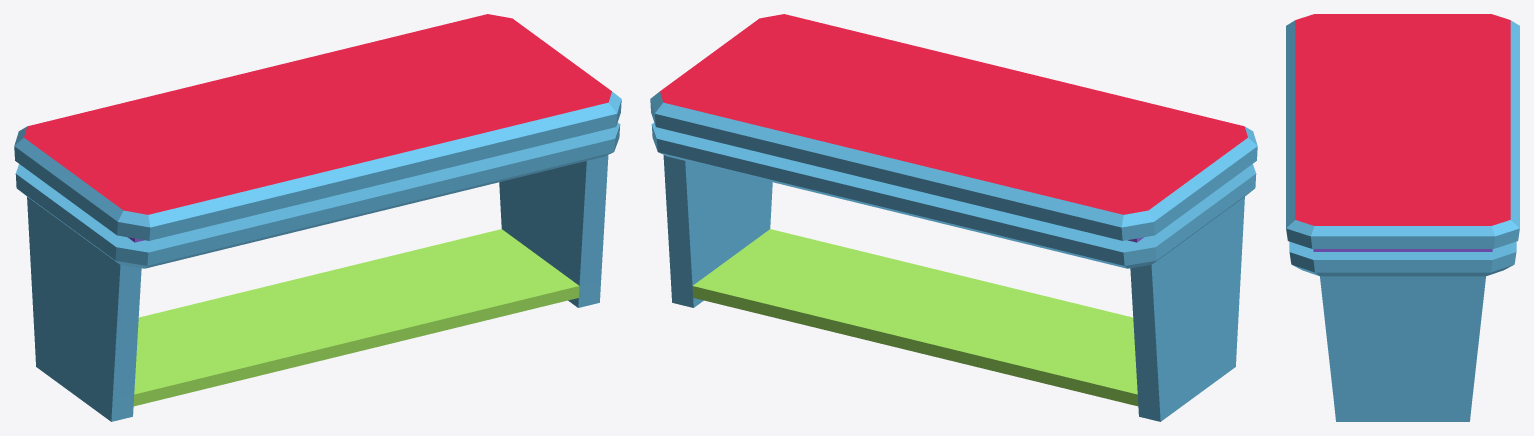
Rendered from Kitchen_Table.fbx.
3 renders of one model, left to right at view 1: azimuth 30°, elevation 25°; view 2: azimuth 150°, elevation 25°; view 3: azimuth 270°, elevation 25°, orthographic. The views are drawn at different scales.
Parts seen in each view (by area): view 1: Table; view 2: Table; view 3: Table.
Boxes of the visible parts, <box> form: Table: <box>14,14,621,421</box>; Table: <box>650,14,1257,421</box>; Table: <box>1286,14,1519,421</box>.
Size of the model in its own units: 290 by 121 by 131.
Materials: 1 (1 with a texture image).
